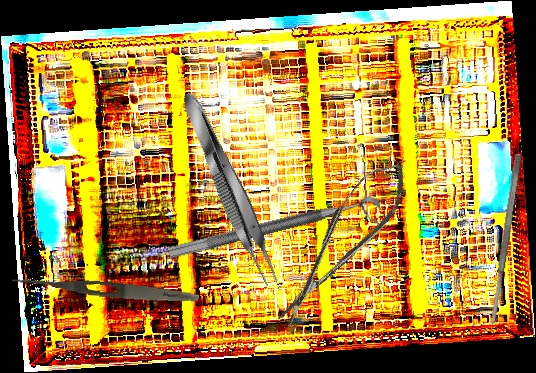Dressing Forceps: (11, 272, 200, 307)
Fixation Ring: (167, 193, 385, 278)
Micro Scissor: (260, 151, 421, 334)
Spatula Surgical: (487, 153, 524, 326)
Tissue Forceps: (174, 87, 286, 290)
